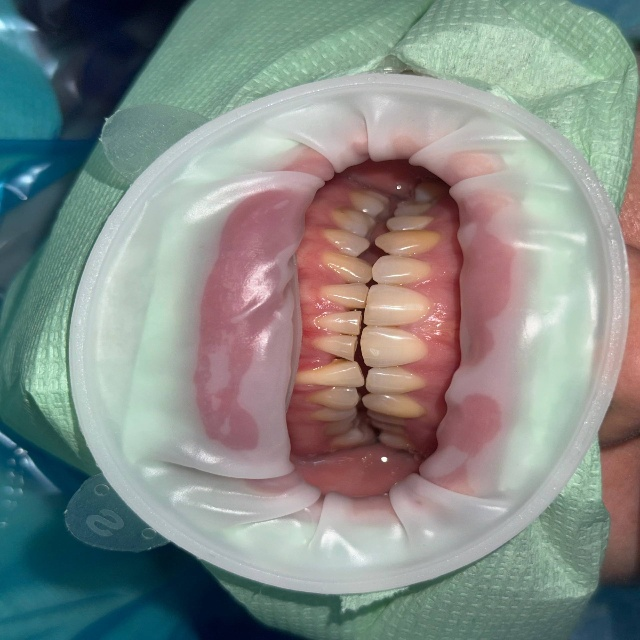clean_tooth: (106, 159, 141, 241), (219, 327, 277, 368), (215, 288, 274, 326), (139, 114, 196, 151), (199, 88, 260, 120), (227, 369, 273, 391), (225, 255, 260, 281), (276, 364, 317, 386)
plaque: (538, 14, 622, 155), (0, 586, 70, 639)
